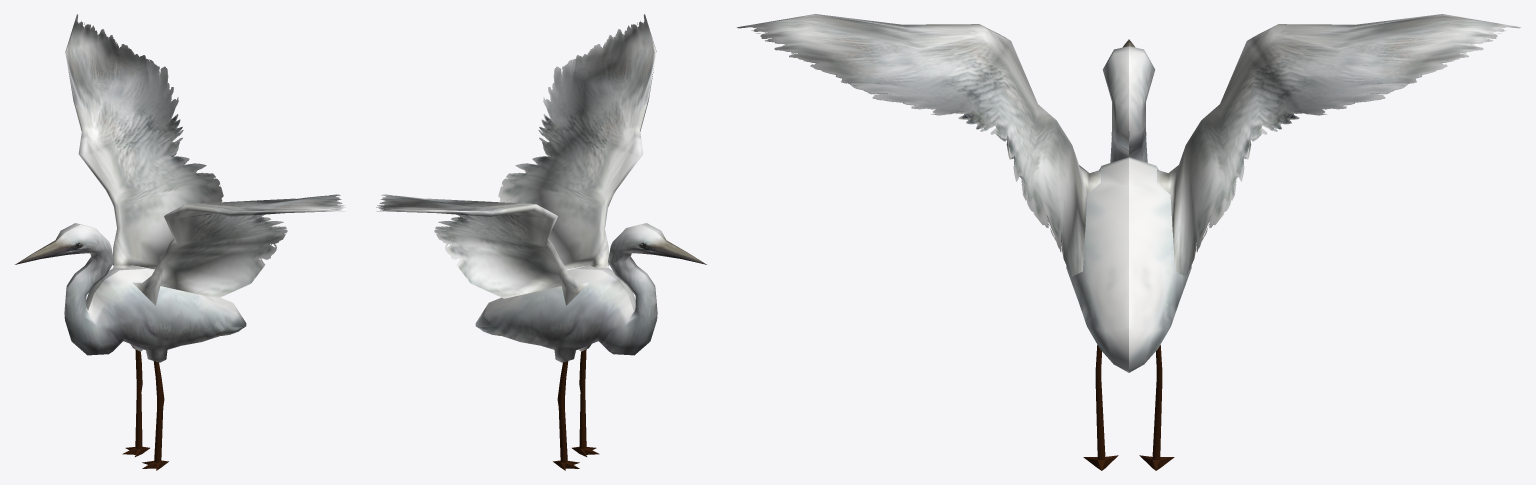
Rendered from storkstatic.FBX.
3 renders of one model, left to right at view 1: azimuth 30°, elevation 25°; view 2: azimuth 150°, elevation 25°; view 3: azimuth 270°, elevation 25°, orthographic. The views are drawn at different scales.
Parts seen in each view (by area): view 1: Line01, Line02; view 2: Line02, Line01; view 3: Line01, Line02.
Part boxes in pixels (x1=…): Line01: x1=15, y1=194, x2=345, y2=470; Line02: x1=20, y1=14, x2=223, y2=456; Line02: x1=376, y1=194, x2=706, y2=470; Line01: x1=498, y1=14, x2=701, y2=456; Line01: x1=737, y1=14, x2=1128, y2=470; Line02: x1=1129, y1=14, x2=1520, y2=470.
Bounding box in the file's own units: 262 × 338 × 497.
